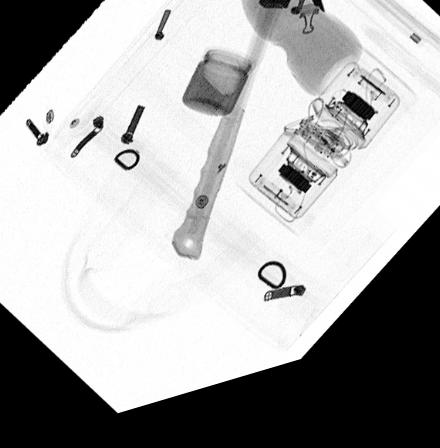Hammer: (171, 0, 325, 271)
